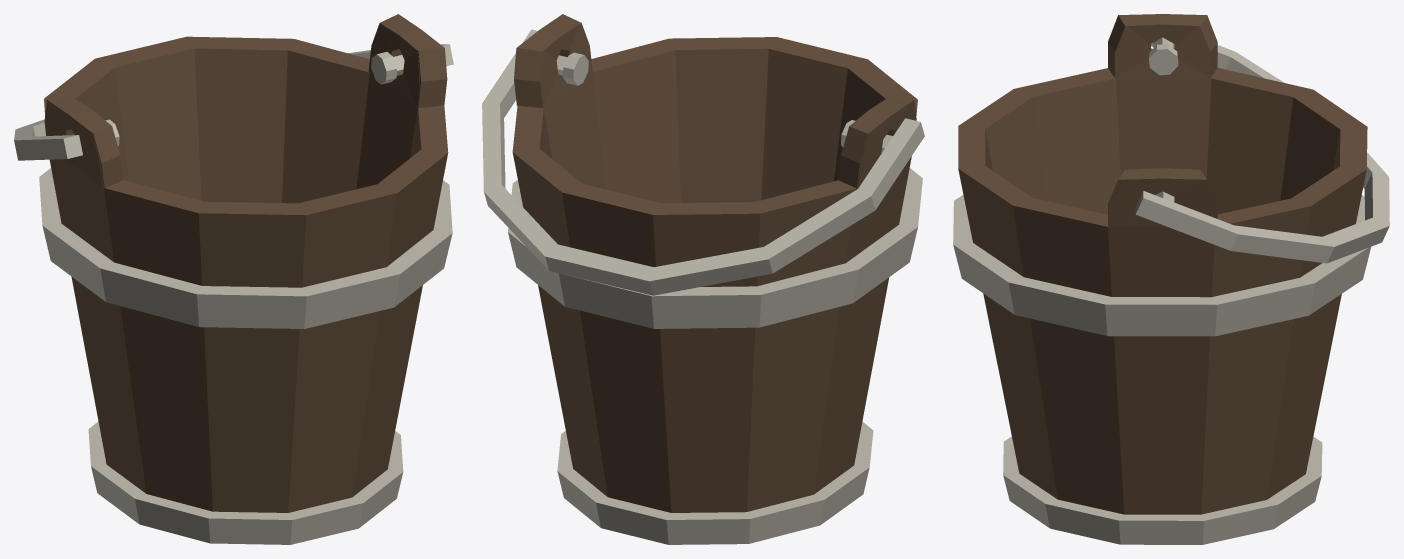
File: Bucket.fbx
3 views of the same model, side by side, from view 1: azimuth 30°, elevation 25°; view 2: azimuth 150°, elevation 25°; view 3: azimuth 270°, elevation 25° (orthographic). The views are drawn at different scales.
Visible parts, largest first — view 1: Cube; view 2: Cube; view 3: Cube.
Boxes of the visible parts, box(x1,y1,x2,y2) form: Cube: box(14, 14, 453, 544); Cube: box(482, 14, 924, 544); Cube: box(953, 14, 1389, 544).
Size of the model in its own units: 47.62 by 47.58 by 48.41.
